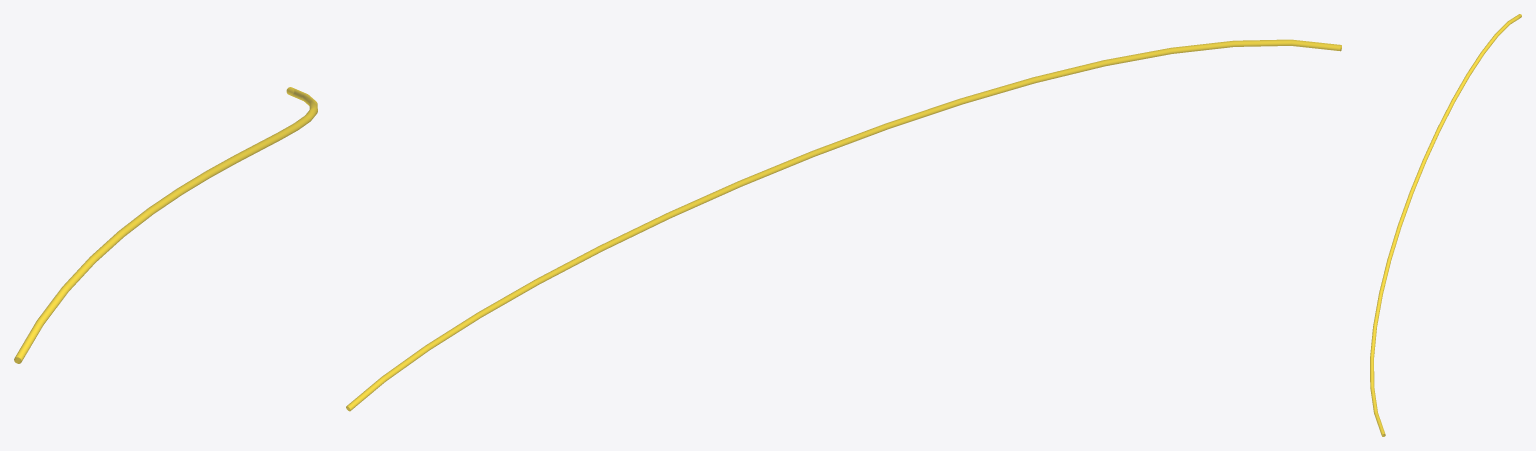
File: Event_100608114_track_76.fbx
3 renders of one model, left to right at view 1: azimuth 90°, elevation 25°; view 2: azimuth 210°, elevation 25°; view 3: azimuth 270°, elevation 25°, orthographic. The views are drawn at different scales.
Parts seen in each view (by area): view 1: Model; view 2: Model; view 3: Model.
Part boxes in pixels (<box>): Model: <box>14,87,317,363</box>; Model: <box>346,39,1341,411</box>; Model: <box>1370,14,1521,436</box>.
Size of the model in its own units: 6.44 by 1.66 by 1.49.
